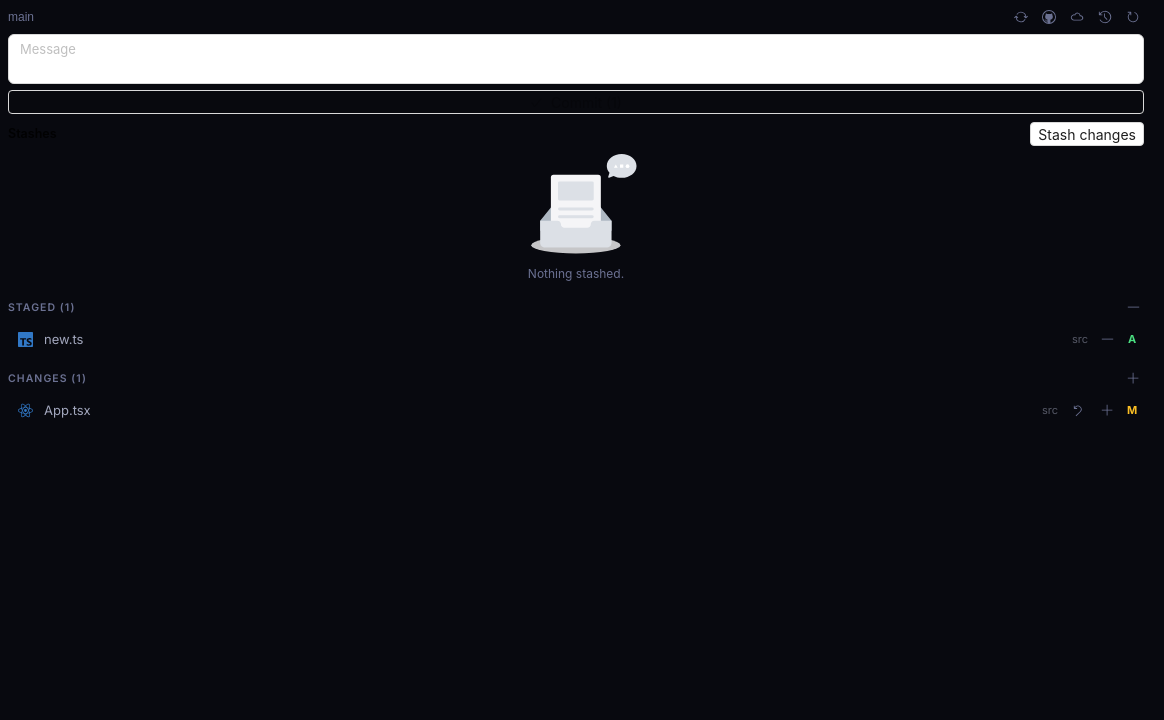
Test: SourceControlPanel diffs › expands the diff for the clicked file
Click the text "App.tsx".
click(67, 410)  # box [44,402,91,418]
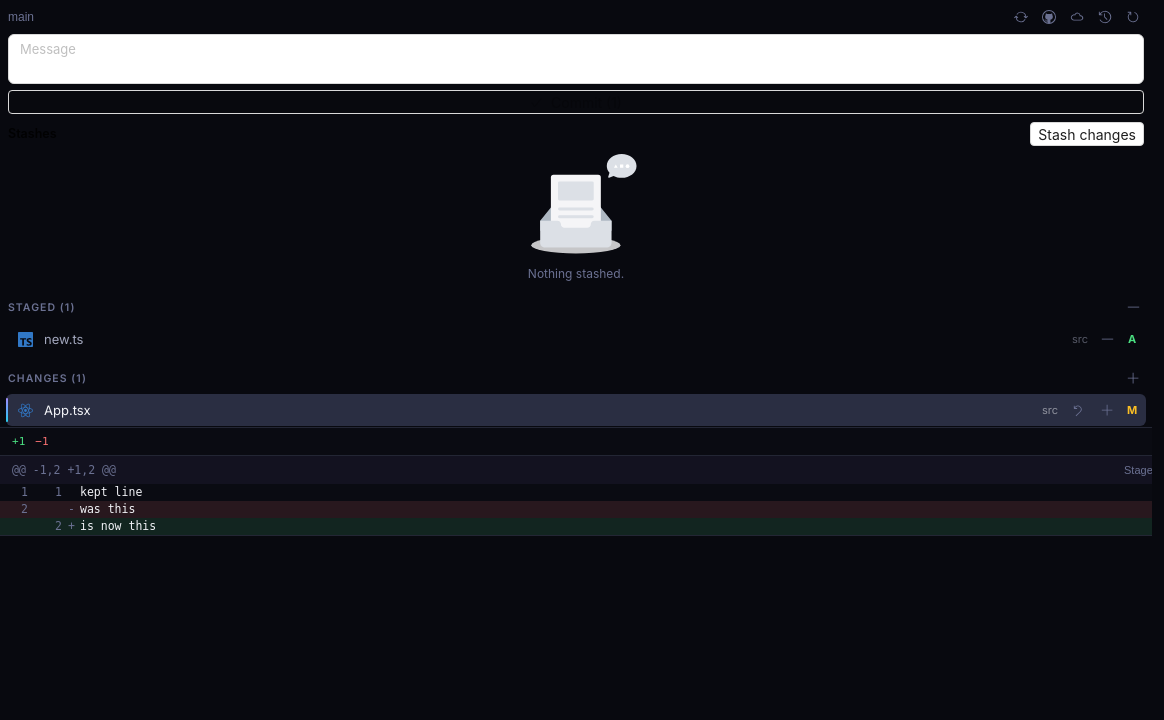
Expected: the text "is now this" is shown, [80,519,156,533]
Expected: the text "was this" is shown, [80,502,135,516]
Expected: the text "kept line" is shown, [80,485,142,499]
